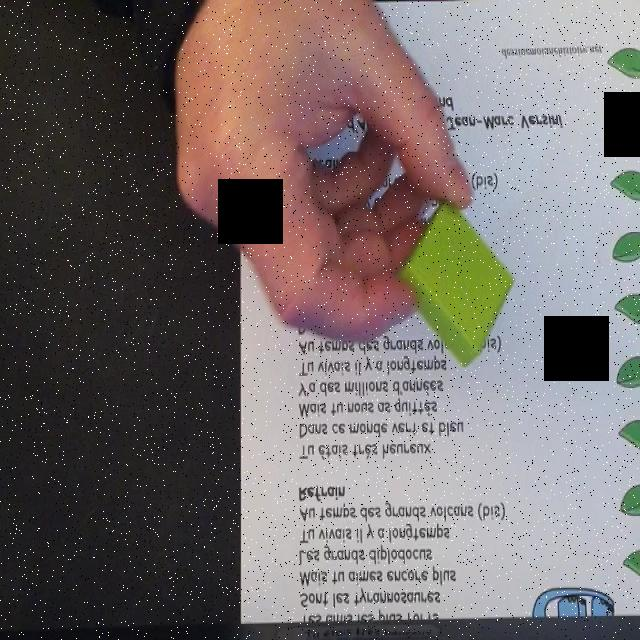square: (395, 198, 516, 366)
